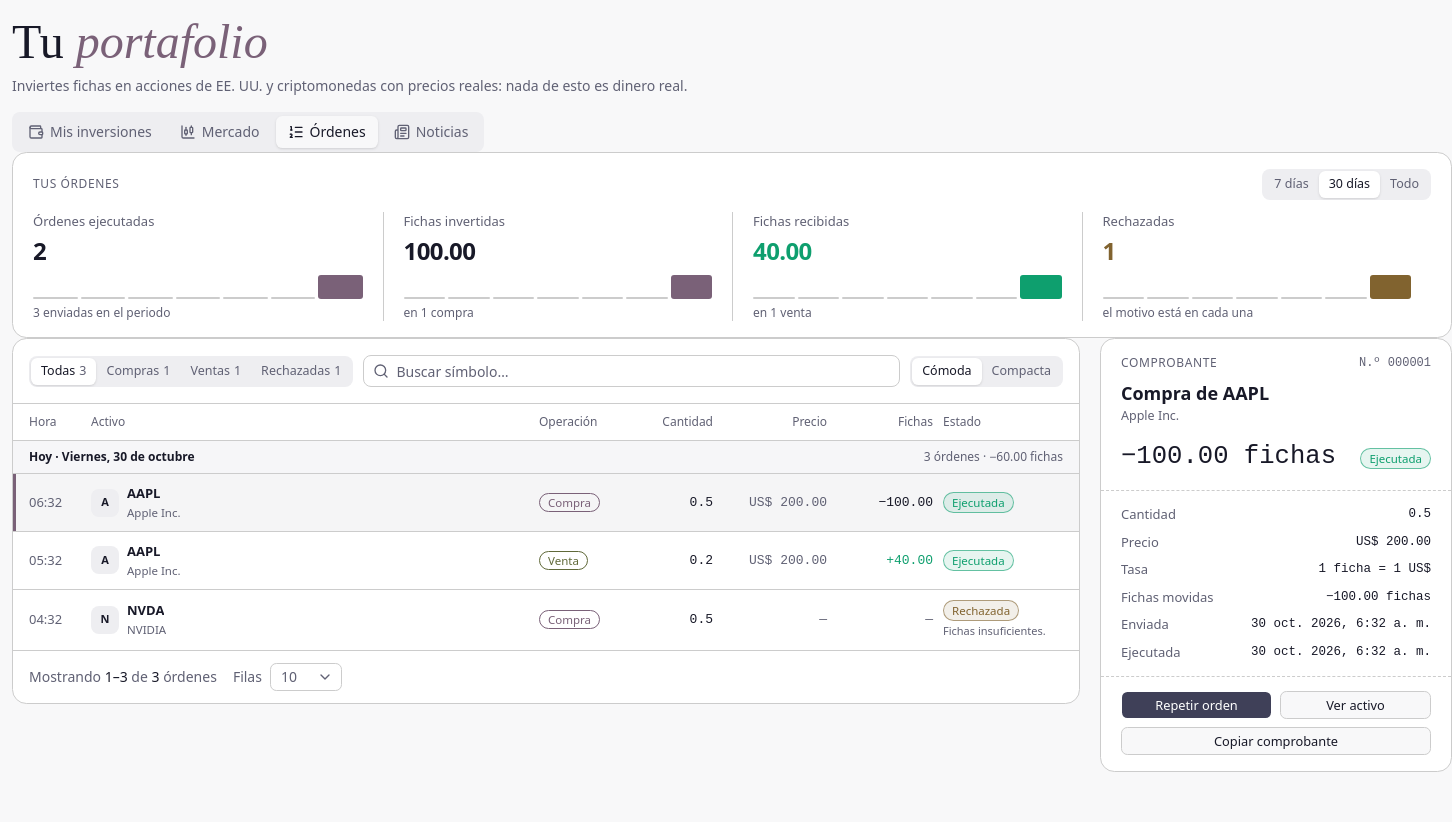
Test: OrdersPage › el tipo y la busqueda filtran y quedan en la URL
Click the button "Rechazadas1" at [301, 371], box [251, 358, 351, 385]
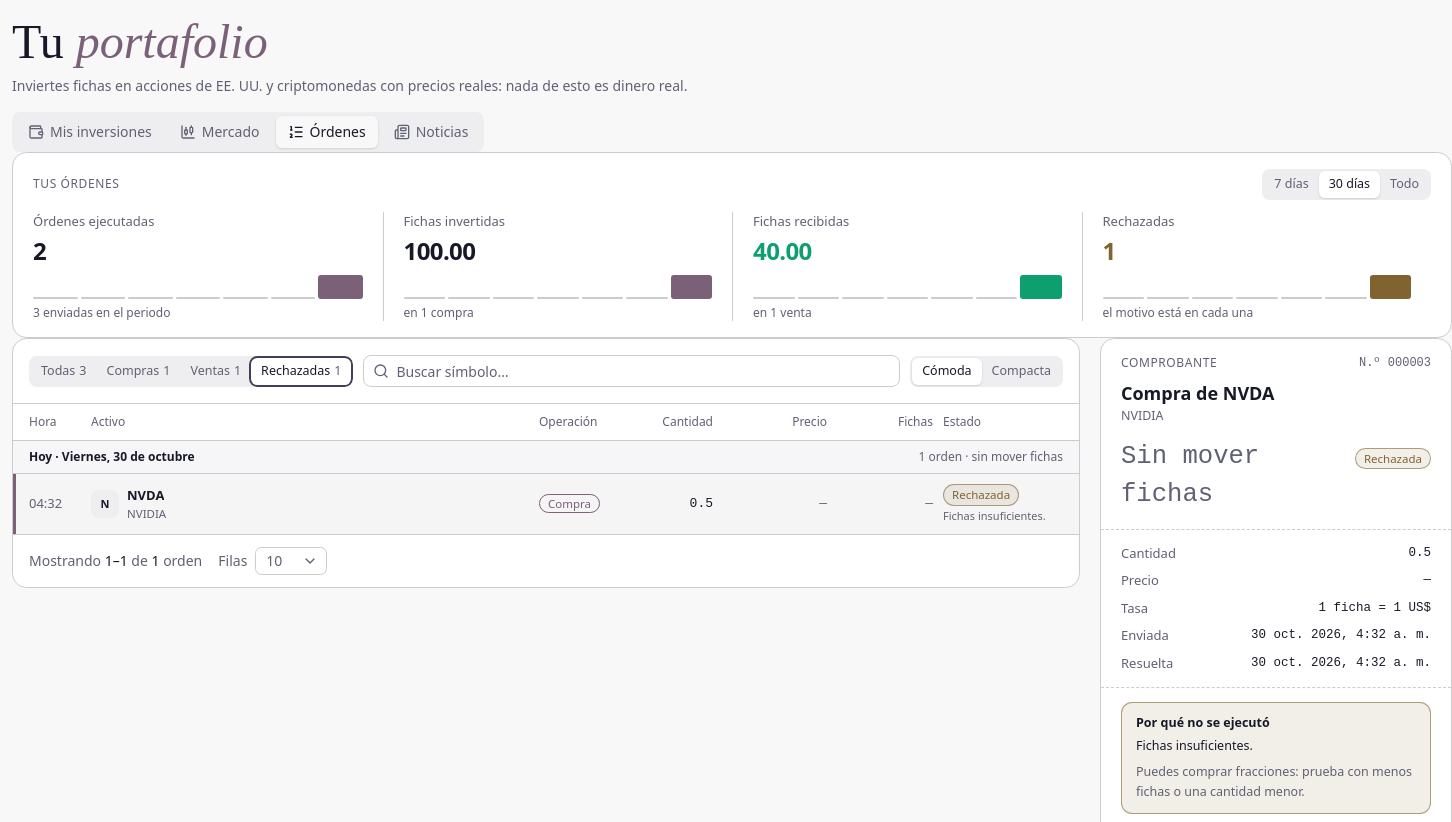
Now the button "AAPL" is gone
Click the button "Todas3" at [64, 371], box [31, 358, 96, 385]
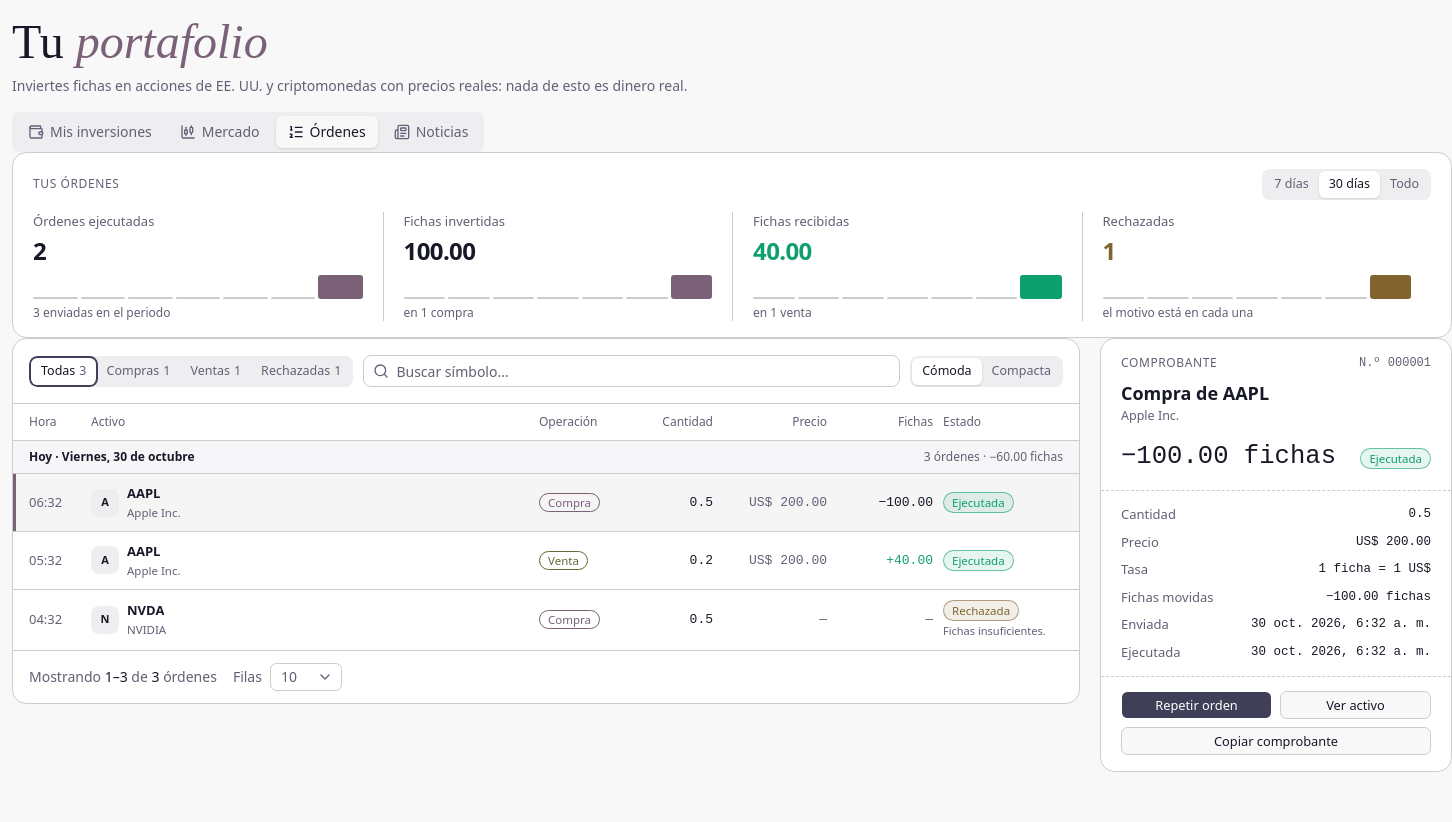
Type "nvd" into the search field named "Buscar por símbolo" at [632, 371], box [363, 355, 900, 387]
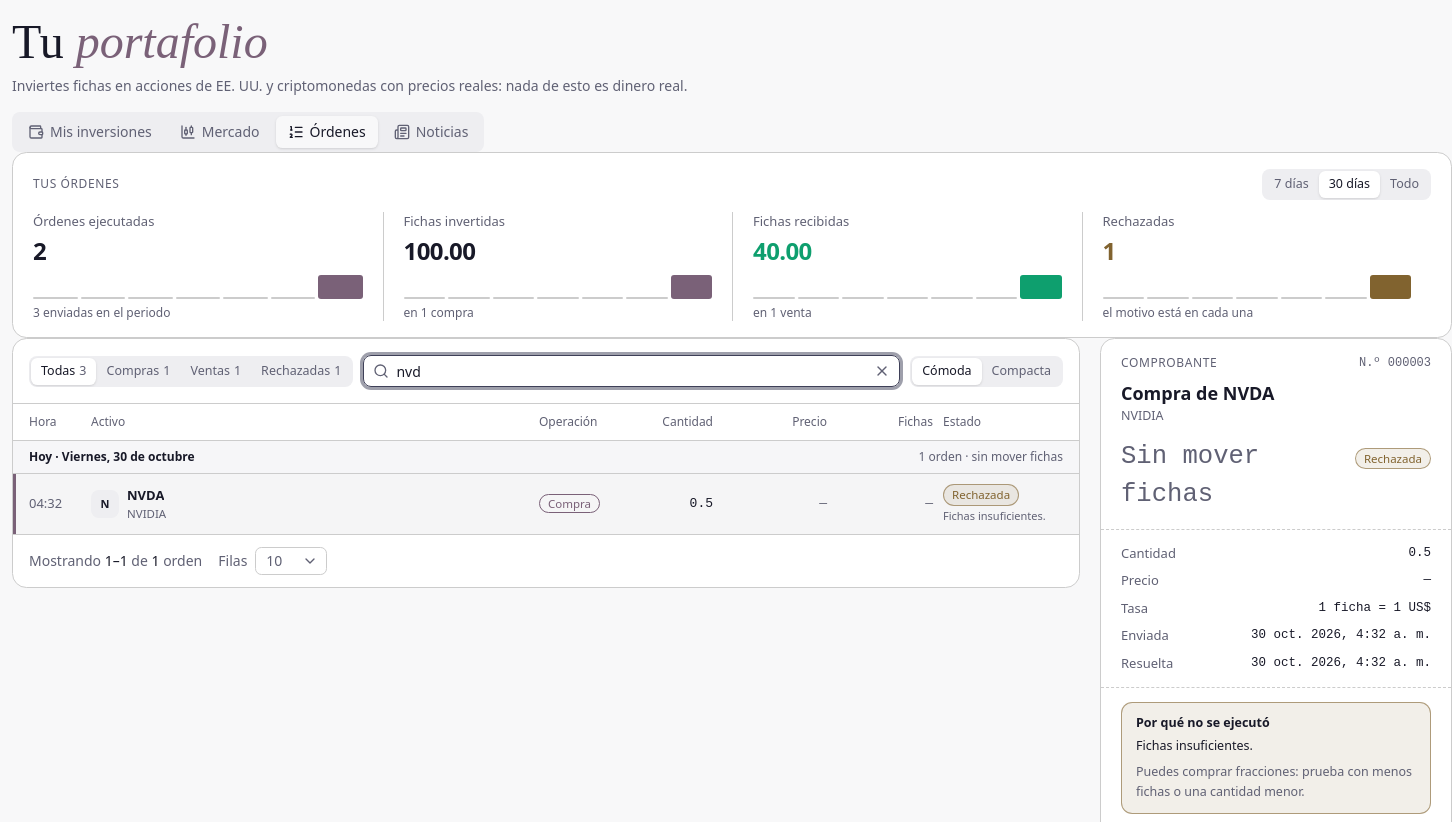
Expected: the button "NVDA" is shown, [127, 486, 164, 505]
Now no buttons "AAPL" are shown
